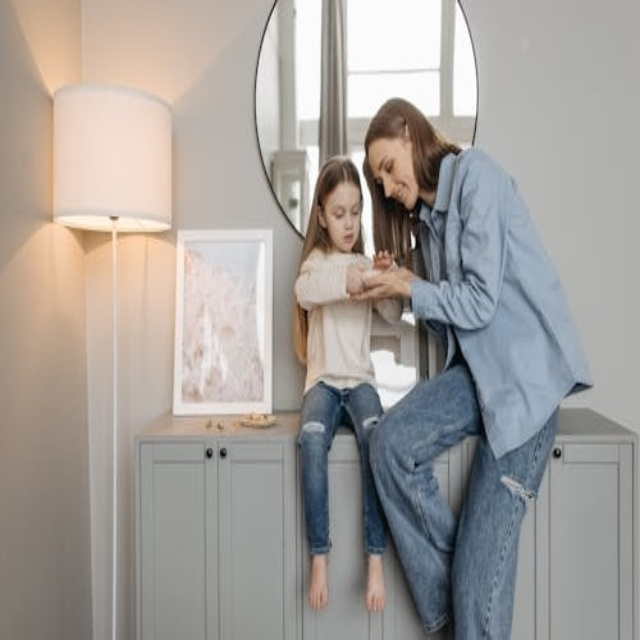Sin_gafas: (375, 144, 399, 180), (324, 200, 363, 222)
Sin_guantes: (353, 262, 403, 303)
Sin_mascara: (387, 182, 415, 209), (334, 224, 356, 247)
